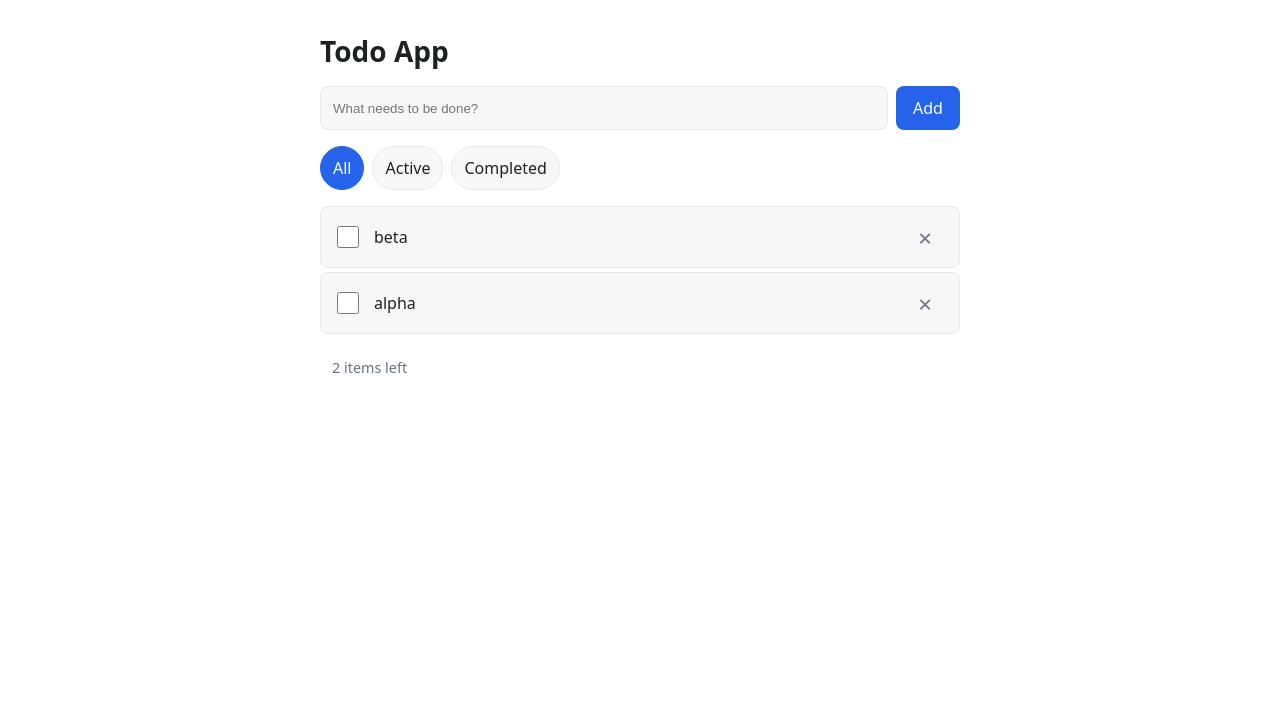
Scenario: <TodoItem /> multiple deletes (Story E3.S4 AC5) › queues independent toasts; undoing one restores only that row
Check: the text "alpha" is shown, box [374,292,416,314]
Check: the text "beta" is shown, box [374,226,408,248]
Delete both rows in quick succession.
Click the button named "delete \"alpha\"" at (925, 303), box [903,281,947,325]
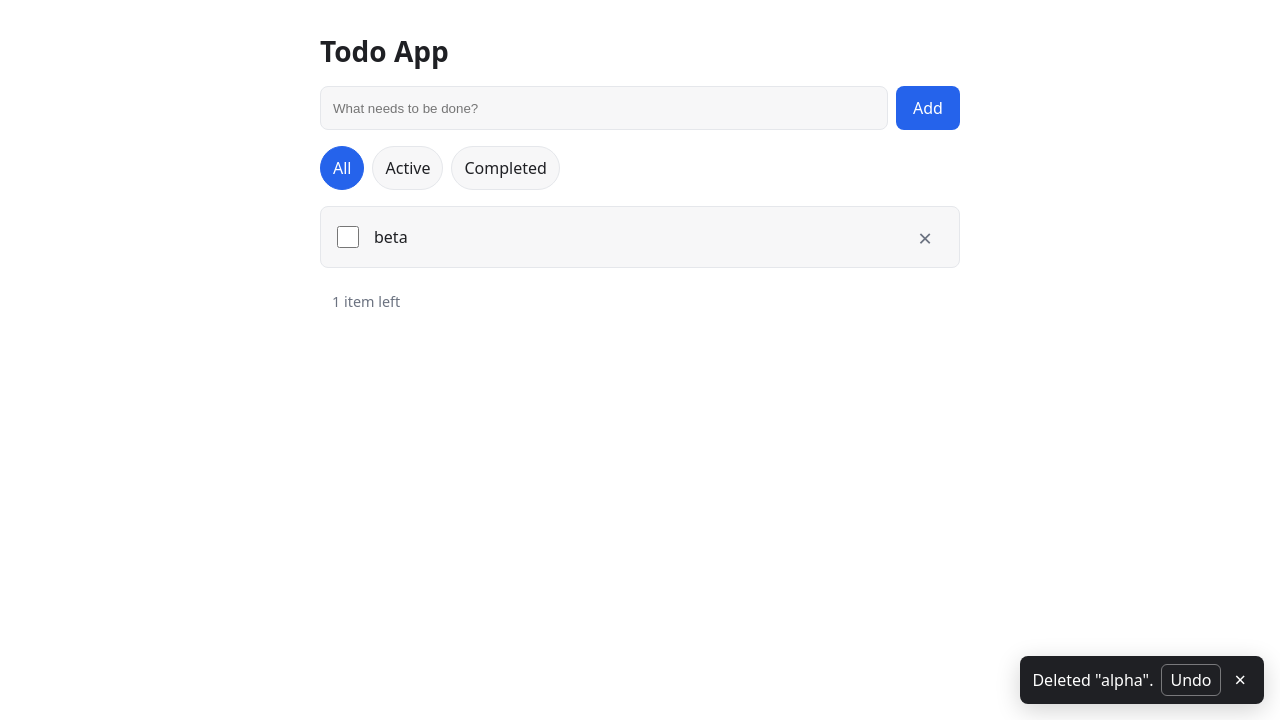
Click the button named "delete \"beta\"" at (925, 237), box [903,215,947,259]
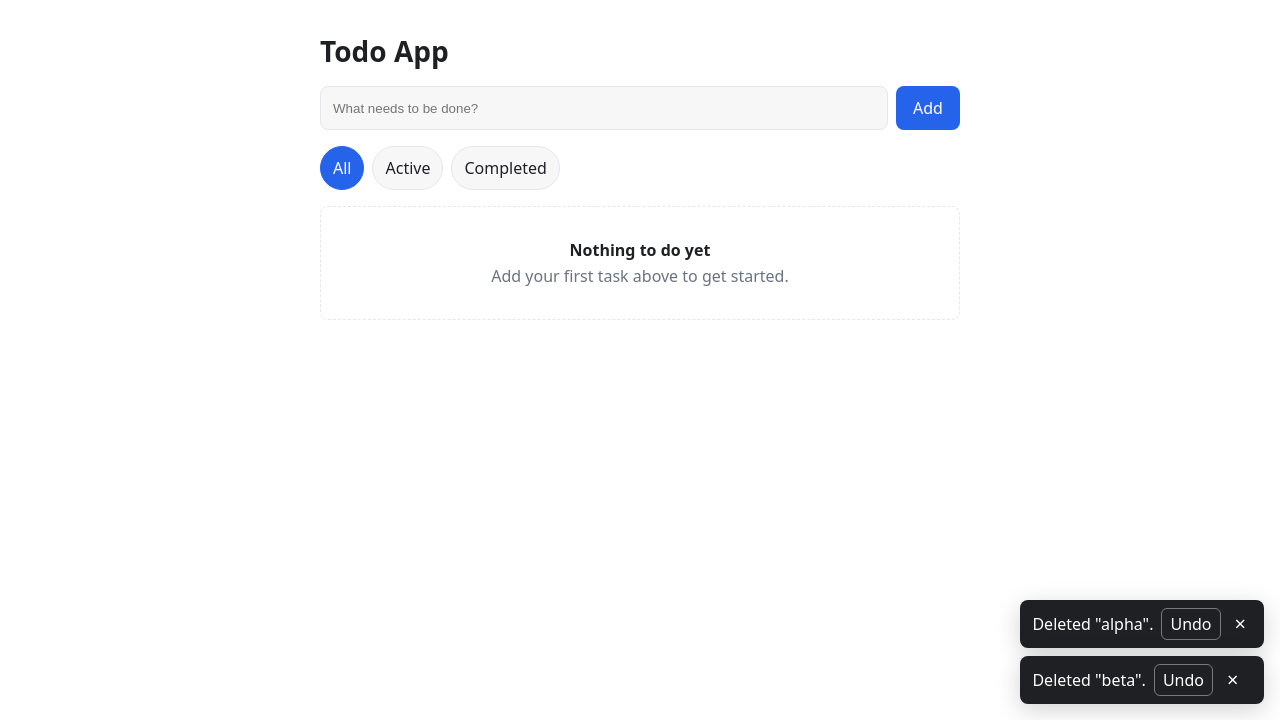
Check: the text "Deleted \"alpha\"." is shown, box [1032,613,1153,635]
Check: the text "Deleted \"beta\"." is shown, box [1032,669,1146,691]
Check: the number of buttons "Undo" is 2
Click the button "Undo" next to "Deleted \"beta\"." at (1183, 680), box [1154,664,1213,696]
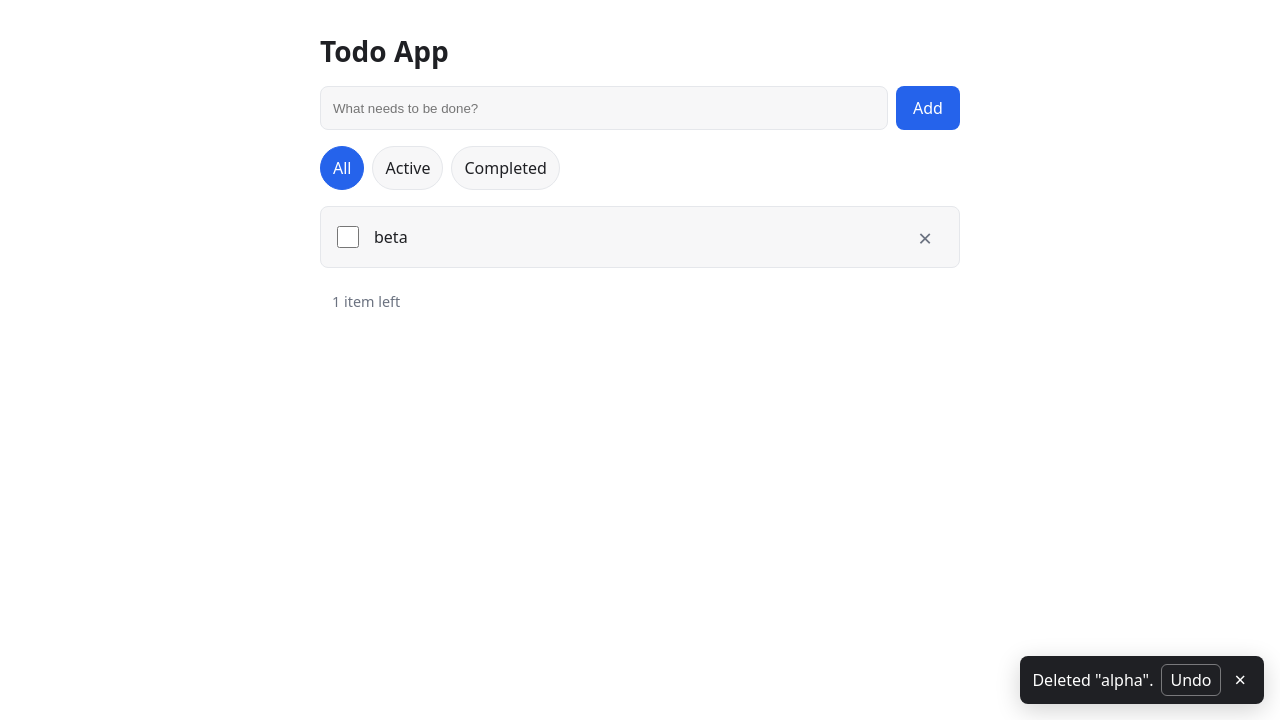
Check: the text "beta" is shown, box [374,226,408,248]
Check: the number of buttons "Undo" is 1, box [1161,664,1220,696]
